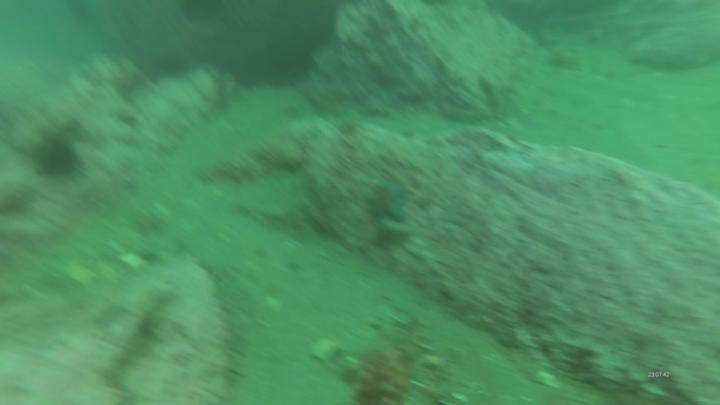echinus: (34, 136, 82, 180)
starfish: (363, 178, 415, 225)
